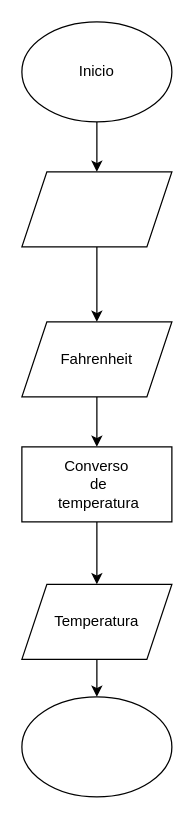
This 194x819 diagram has some shape labels left out. Here are the shapes that lost their labels. From the top down, the centre of each, then its label:
At (96,209): "Celsius".
At (96,746): "Fim".
